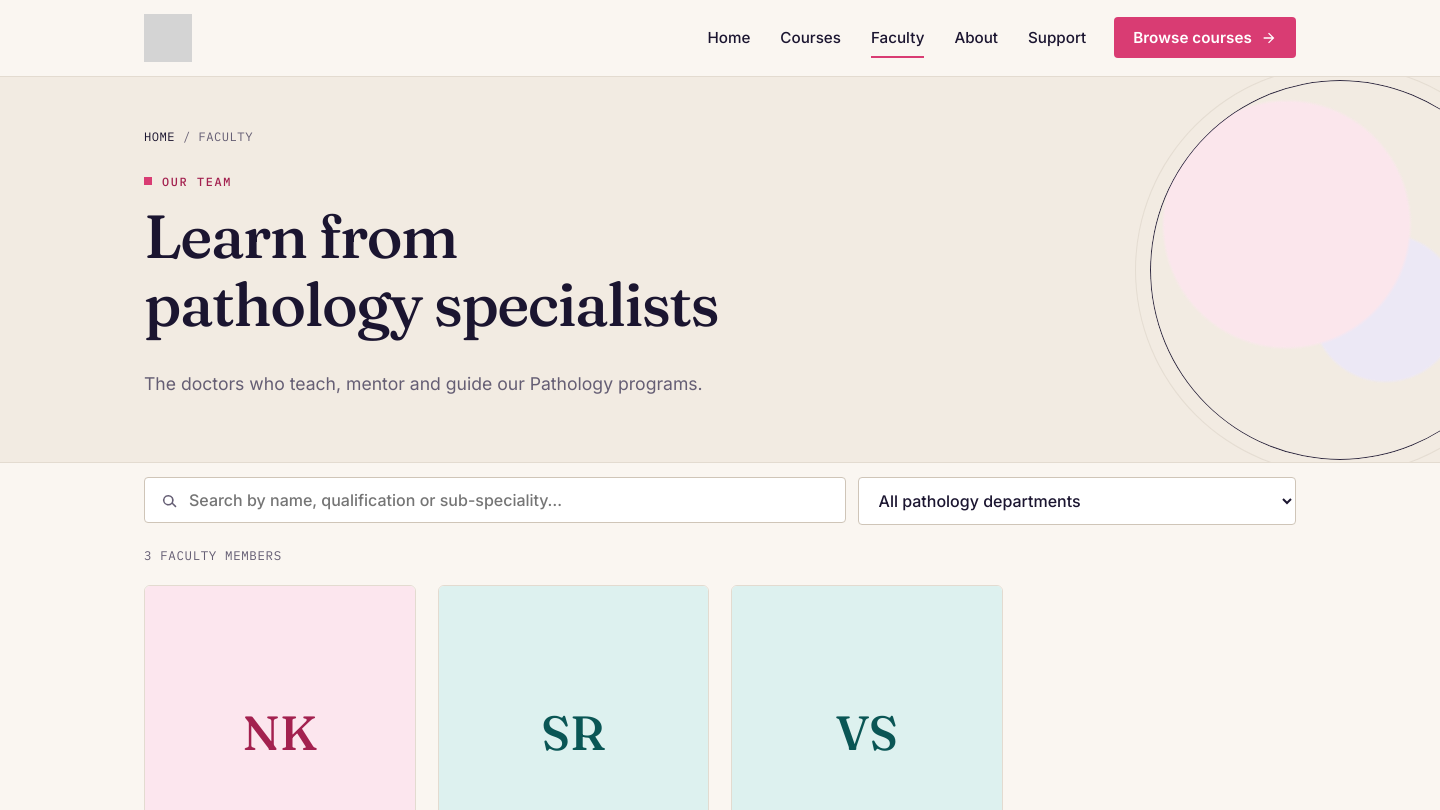
Test case: pages › Faculty shows only pathology faculty, hides test records and never shows contact data
The width and height of the screenshot is (1440, 810).
expect the text "3 faculty members" is shown: met, box [144,547,282,563]
Select "Histopathology" in the dropdown named "Department": (1077, 501) [858,477,1296,525]
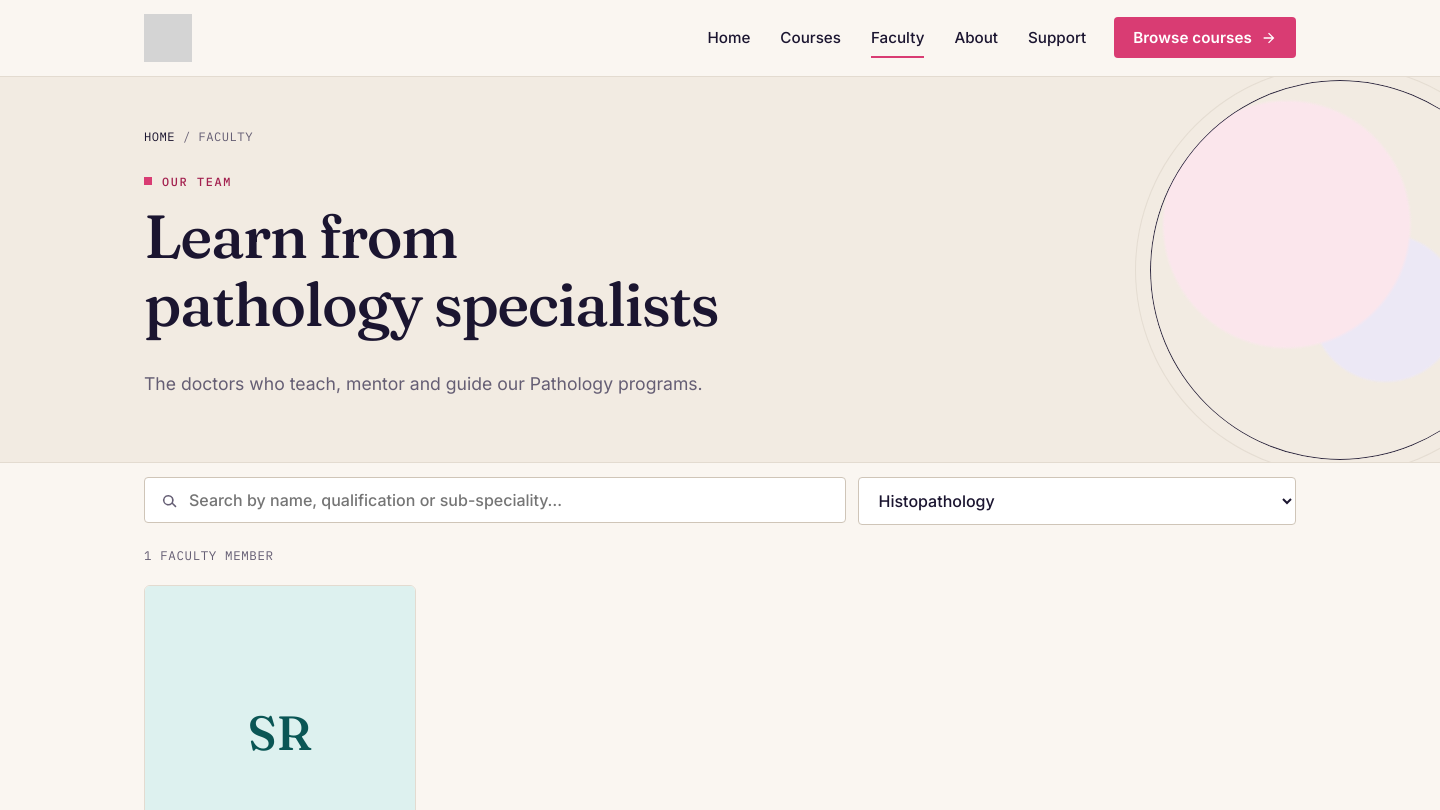
expect the text "1 faculty member" is shown: met, box [144,547,274,563]
